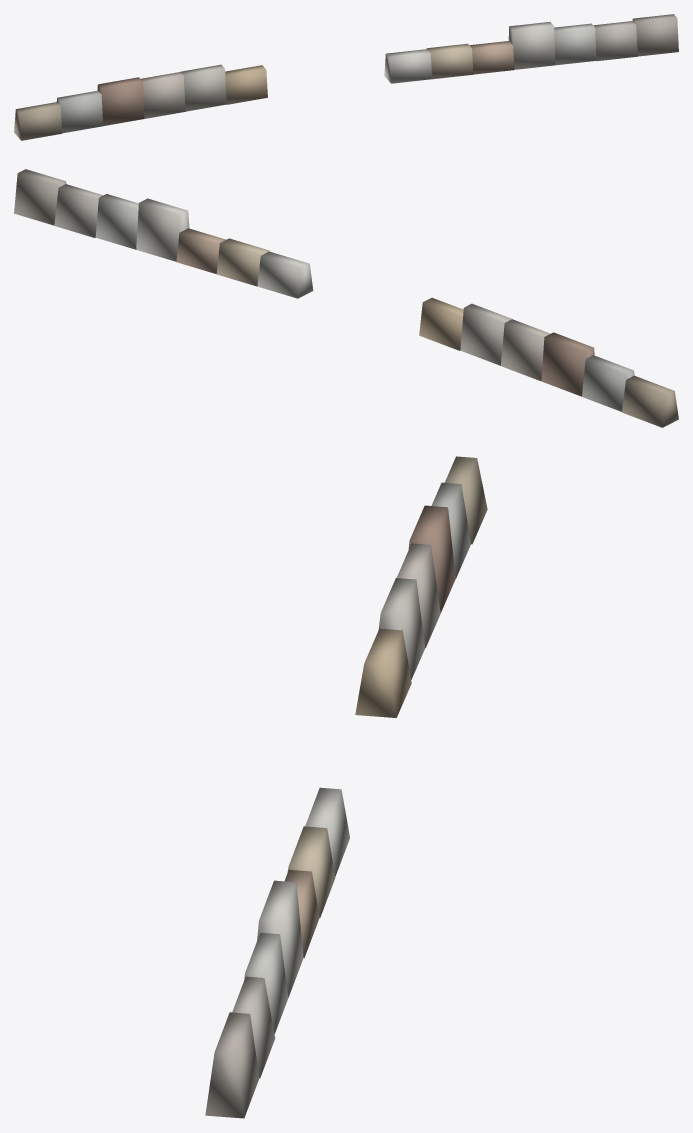
The model's file is farm_-52_-43_collision.glb.
3 renders of one model, top to bottom at view 1: azimuth 30°, elevation 25°; view 2: azimuth 150°, elevation 25°; view 3: azimuth 270°, elevation 25°, orthographic. The views are drawn at different scales.
Visible parts, largest first — view 1: geometry_0; view 2: geometry_0; view 3: geometry_0.
Boxes of the visible parts, bbox=[...] form: geometry_0: bbox=[14, 14, 678, 140]; geometry_0: bbox=[14, 169, 678, 427]; geometry_0: bbox=[205, 456, 487, 1118].
Bounding box in the file's own units: 23.88 × 1.95 × 4.86.
